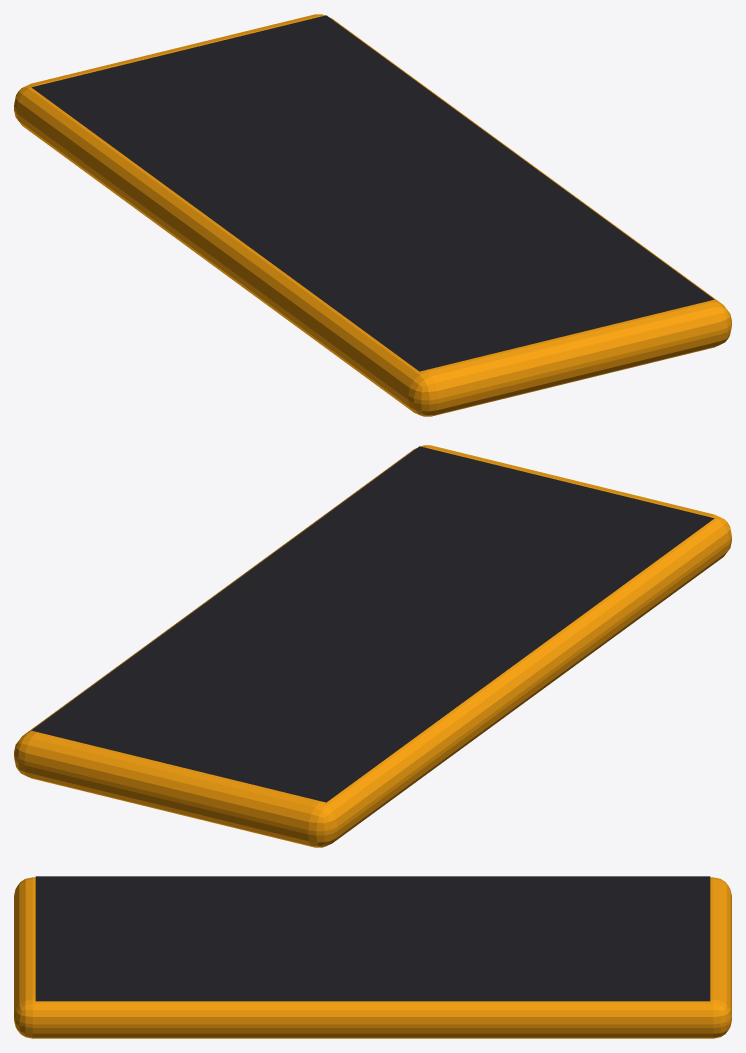
File: Phone_569.glb
The picture shows the model from 3 angles, top to bottom: view 1: azimuth 30°, elevation 25°; view 2: azimuth 150°, elevation 25°; view 3: azimuth 270°, elevation 25°; orthographic projection. The views are drawn at different scales.
Parts seen in each view (by area): view 1: Phone_Screen, Phone_Body; view 2: Phone_Screen, Phone_Body; view 3: Phone_Screen, Phone_Body.
Part boxes in pixels (left/top/right/bottom): Phone_Screen: left=31, top=15, right=714, bottom=371; Phone_Body: left=14, top=14, right=731, bottom=416; Phone_Screen: left=31, top=446, right=714, bottom=802; Phone_Body: left=14, top=445, right=731, bottom=847; Phone_Screen: left=35, top=876, right=710, bottom=1001; Phone_Body: left=14, top=877, right=731, bottom=1038.
Size of the model in its own units: 0.0761 by 0.0099 by 0.1697.
